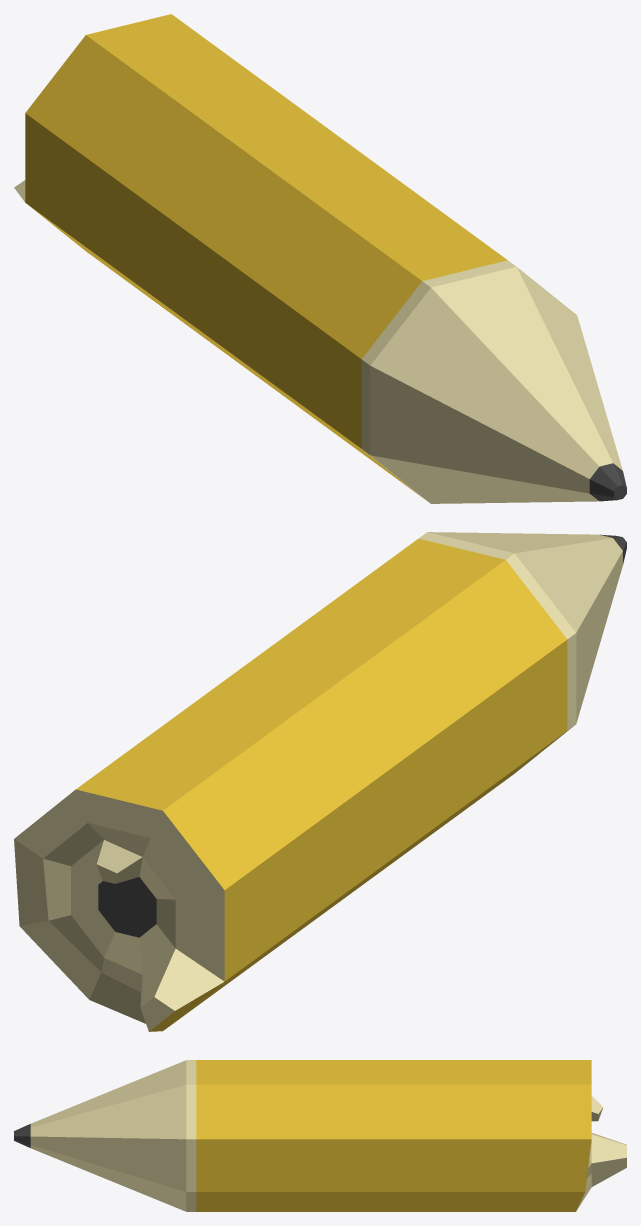
File: brokenPencil.fbx
3 renders of one model, top to bottom at view 1: azimuth 30°, elevation 25°; view 2: azimuth 150°, elevation 25°; view 3: azimuth 270°, elevation 25°, orthographic. The views are drawn at different scales.
Visible parts, largest first — view 1: Broken Pencil; view 2: Broken Pencil; view 3: Broken Pencil.
Boxes of the visible parts, x1,y1,x2,y2 form: Broken Pencil: (14, 14, 626, 503); Broken Pencil: (14, 532, 626, 1031); Broken Pencil: (14, 1060, 626, 1211).
Size of the model in its own units: 13.22 by 13.22 by 57.76.
